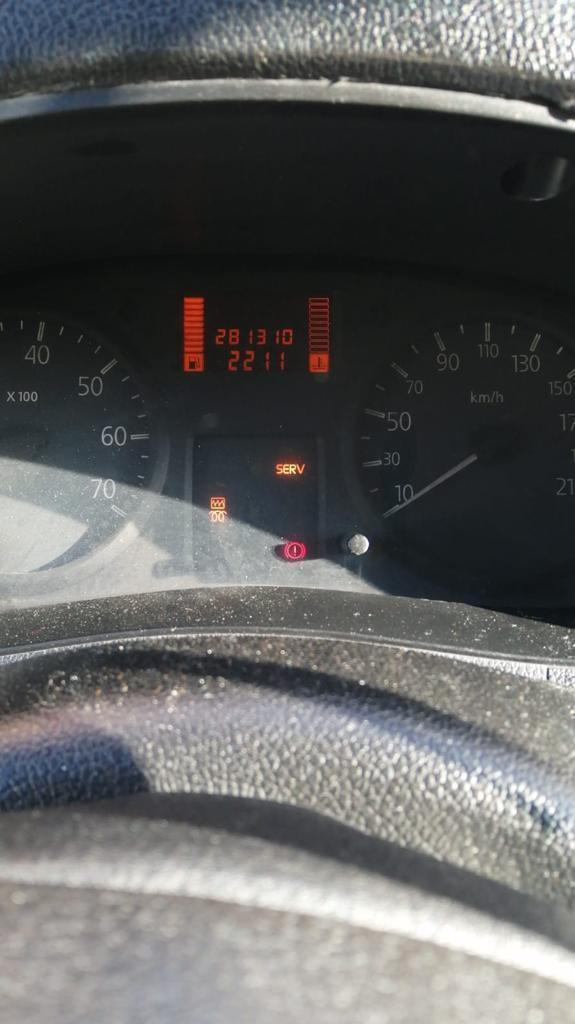0: (281, 327, 294, 345)
1: (277, 349, 286, 371), (262, 350, 271, 371), (246, 327, 255, 345), (272, 328, 281, 345)
2: (241, 349, 256, 372), (226, 349, 240, 372), (213, 327, 226, 346)
3: (255, 327, 267, 345)
8: (227, 327, 241, 345)
odometer: (166, 287, 342, 385)
